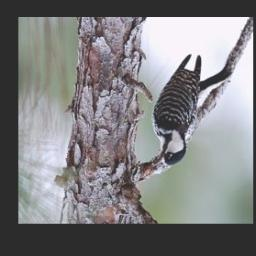Woodpecker: (148, 54, 232, 170)
